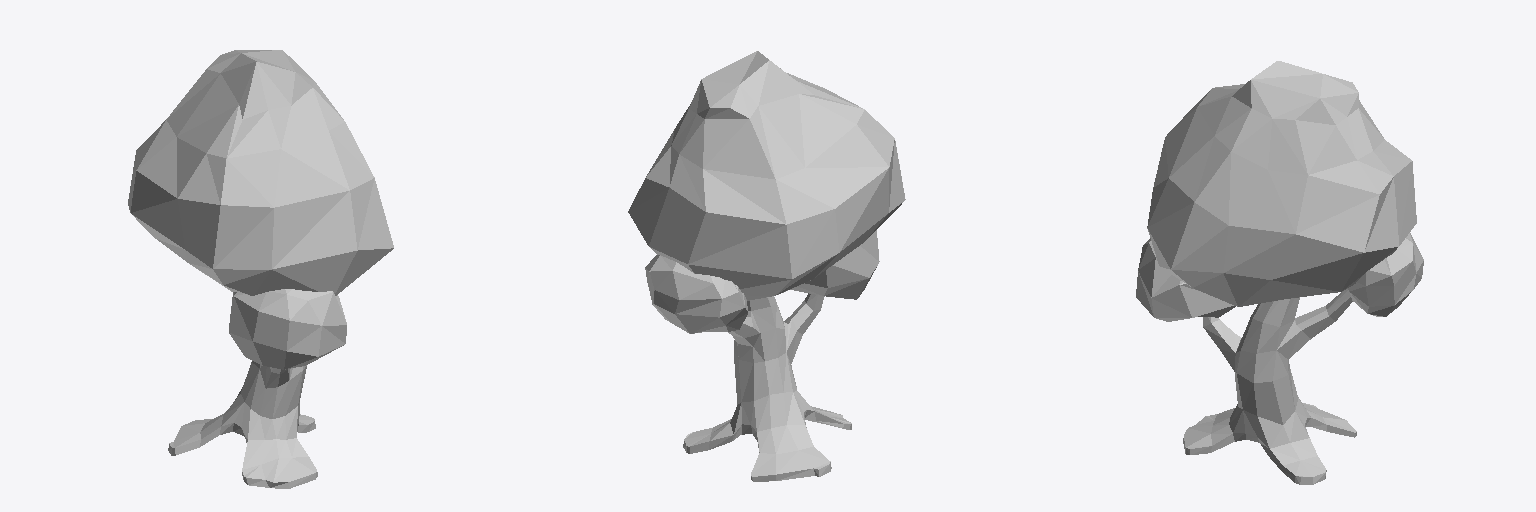
File: lowpoly tree.obj
3 renders of one model, left to right at view 1: azimuth 30°, elevation 25°; view 2: azimuth 150°, elevation 25°; view 3: azimuth 270°, elevation 25°, orthographic.
Visible parts, largest first — view 1: lowpoly_tree; view 2: lowpoly_tree; view 3: lowpoly_tree.
Boxes of the visible parts, x1,y1,x2,y2 form: lowpoly_tree: [128, 50, 393, 488]; lowpoly_tree: [628, 51, 905, 481]; lowpoly_tree: [1136, 61, 1423, 484].
Bounding box in the file's own units: 3.26 × 6.09 × 4.07.